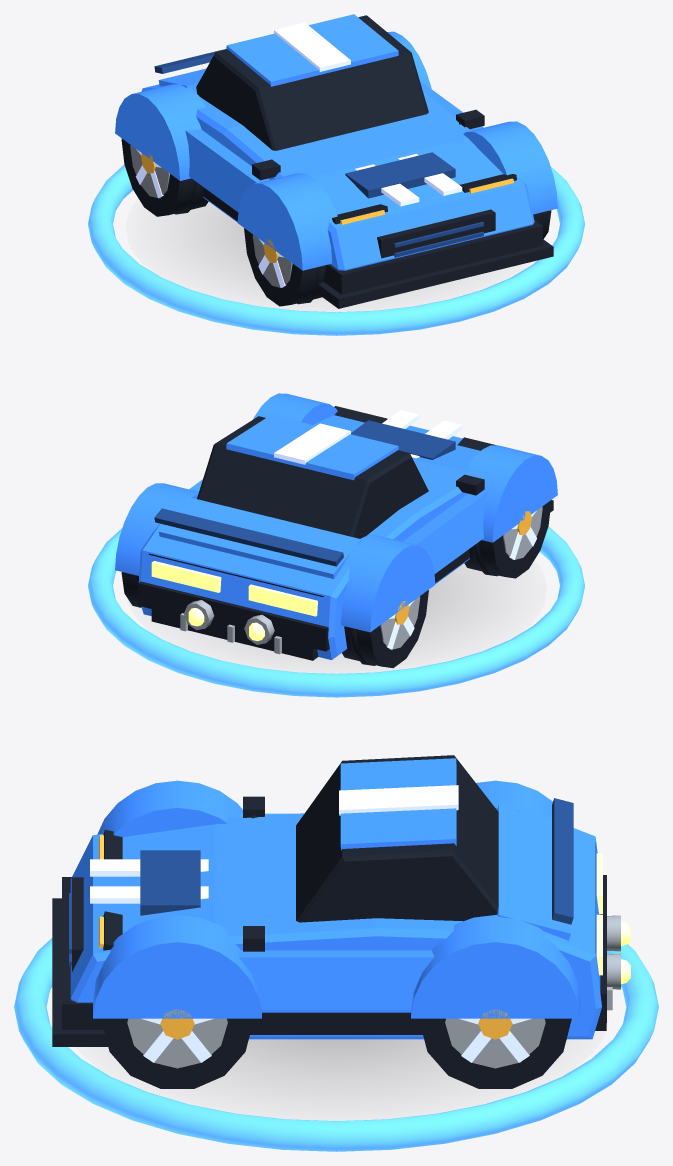
The model's file is raceCar.glb.
The picture shows the model from 3 angles, top to bottom: view 1: azimuth 30°, elevation 25°; view 2: azimuth 150°, elevation 25°; view 3: azimuth 270°, elevation 25°; orthographic projection. The views are drawn at different scales.
Parts seen in each view (by area): view 1: ooxxTorso, ooxxTeamRing, mesh_6_instance_0, mesh_6_instance_1, mesh_6_instance_2, mesh_7_instance_0, ooxxWheelRL, ooxxWheelFL, mesh_26_instance_0, mesh_26_instance_2; view 2: ooxxTorso, ooxxTeamRing, mesh_6_instance_1, mesh_6_instance_0, mesh_7_instance_0, mesh_6_instance_3, ooxxWheelRL, ooxxWheelFL, mesh_6_instance_2, mesh_26_instance_0, mesh_26_instance_2; view 3: ooxxTorso, ooxxTeamRing, mesh_6_instance_2, mesh_6_instance_3, mesh_7_instance_1, ooxxWheelFR, ooxxWheelRR, mesh_6_instance_0, ooxxShadow, mesh_15_instance_1, mesh_26_instance_1, mesh_26_instance_3 (+4 smaller).
Part boxes in pixels (x1,y1,x2,y2): ooxxTorso: (141, 14, 553, 308); ooxxTeamRing: (88, 164, 584, 335); mesh_6_instance_0: (237, 173, 337, 270); mesh_6_instance_1: (115, 83, 206, 180); mesh_6_instance_2: (463, 121, 557, 214); mesh_7_instance_0: (185, 129, 269, 211); ooxxWheelRL: (121, 138, 208, 216); ooxxWheelFL: (244, 228, 325, 306); mesh_26_instance_0: (252, 234, 292, 287); mesh_26_instance_2: (130, 145, 169, 198); ooxxTorso: (138, 407, 553, 660); ooxxTeamRing: (88, 526, 584, 697); mesh_6_instance_1: (340, 535, 435, 632); mesh_6_instance_0: (463, 445, 557, 542); mesh_7_instance_0: (403, 492, 487, 573); mesh_6_instance_3: (115, 483, 198, 575); ooxxWheelRL: (342, 590, 428, 668); ooxxWheelFL: (464, 500, 551, 578); mesh_6_instance_2: (253, 393, 337, 424); mesh_26_instance_0: (503, 506, 542, 559); mesh_26_instance_2: (380, 596, 420, 649); ooxxTorso: (52, 755, 630, 1046); ooxxTeamRing: (14, 938, 658, 1151); mesh_6_instance_2: (93, 915, 261, 1018); mesh_6_instance_3: (411, 915, 579, 1018); mesh_7_instance_1: (239, 950, 433, 1009); ooxxWheelFR: (101, 1018, 253, 1088); ooxxWheelRR: (419, 1018, 571, 1088); mesh_6_instance_0: (97, 780, 242, 836); ooxxShadow: (241, 1039, 431, 1072); mesh_15_instance_1: (250, 1012, 422, 1034); mesh_26_instance_1: (127, 1018, 227, 1068); mesh_26_instance_3: (445, 1018, 545, 1068).
Bounding box in the file's own units: 0.632 × 0.2454 × 0.632.
9 materials, 1 textured.
